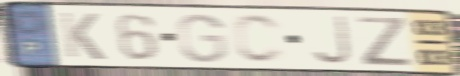6: (114, 11, 162, 62)
C: (230, 12, 287, 66)
G: (175, 11, 230, 65)
J: (308, 14, 354, 67)
K: (57, 10, 107, 62)
Z: (355, 14, 413, 68)
